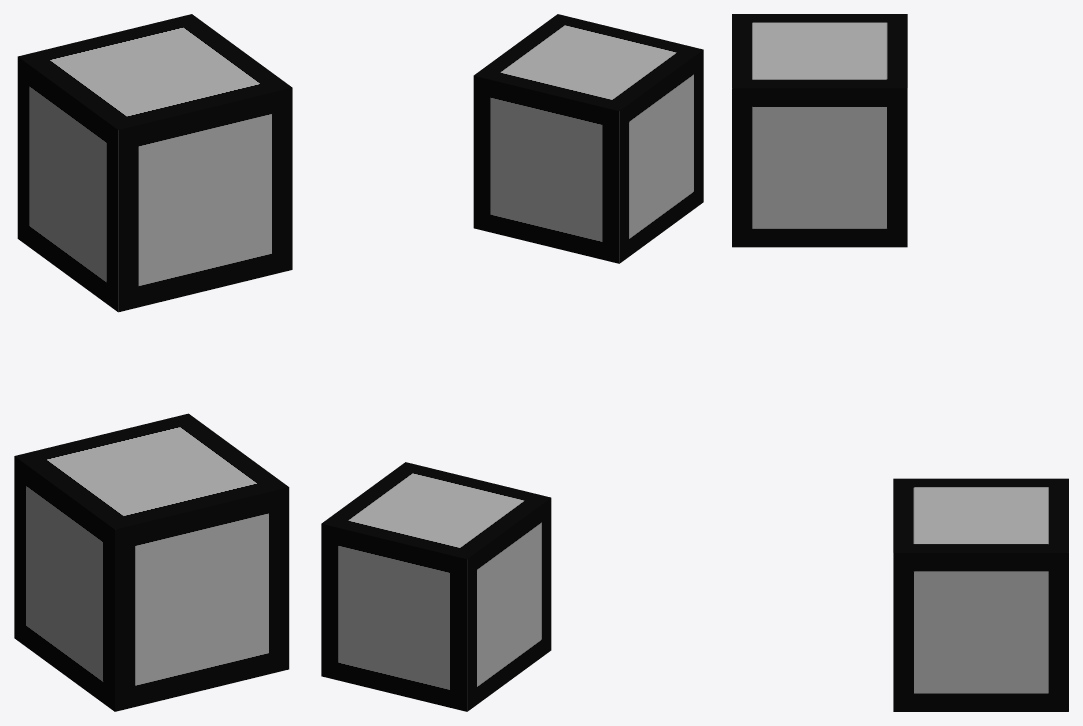
File: left.obj
3 views of the same model, side by side, from view 1: azimuth 30°, elevation 25°; view 2: azimuth 150°, elevation 25°; view 3: azimuth 270°, elevation 25° (orthographic). The views are drawn at different scales.
Parts seen in each view (by area): view 1: Left; view 2: Left; view 3: Left.
Boxes of the visible parts, left/top/right/bottom form: Left: left=14, top=14, right=292, bottom=711; Left: left=321, top=14, right=703, bottom=711; Left: left=732, top=14, right=1068, bottom=711.
Bounding box in the file's own units: 3.78 × 9.2 × 4.8.
Materials: 1 (1 with a texture image).
